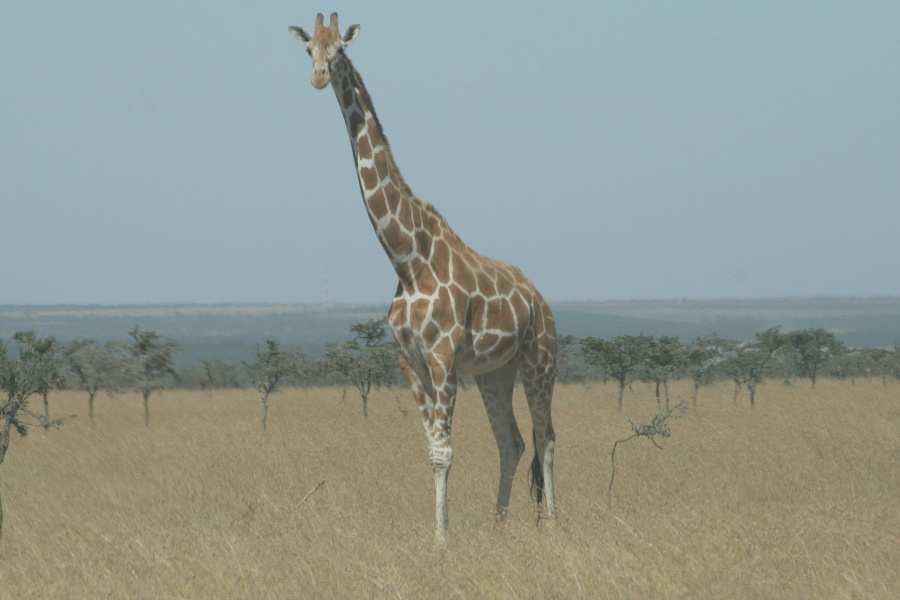giraffe: (278, 5, 573, 545)
